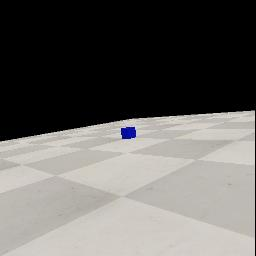box: (121, 127, 136, 139)
